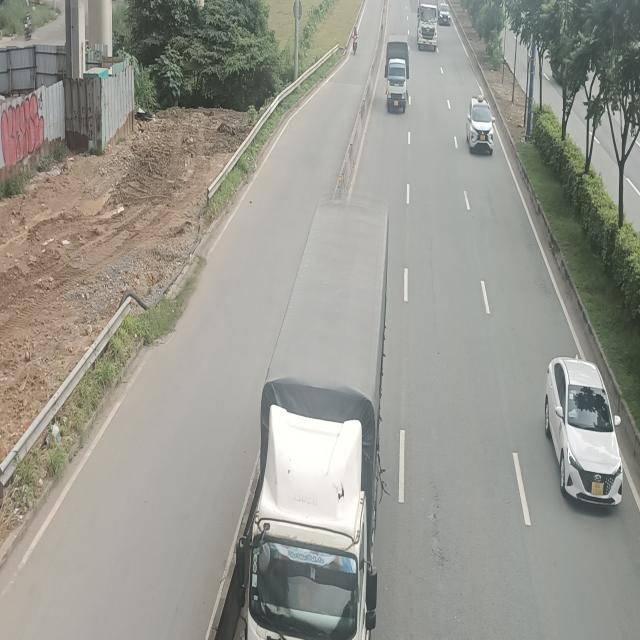car: (544, 356, 624, 505), (468, 99, 496, 155)
truck: (235, 198, 388, 640), (384, 36, 409, 111), (418, 0, 438, 50)
